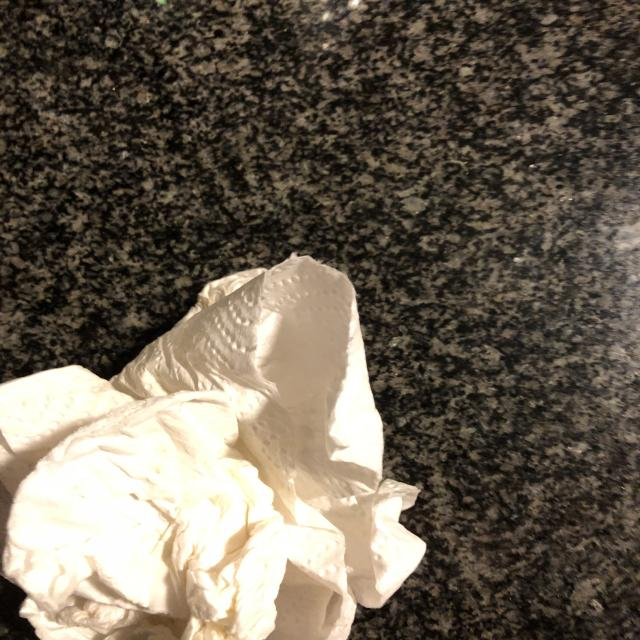kitchen paper: (0, 252, 438, 640)
